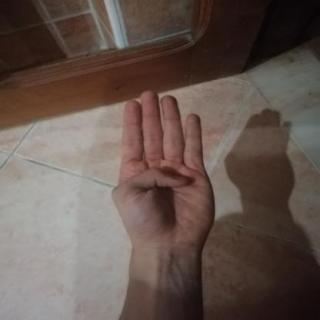KAAF: (97, 82, 227, 266)
